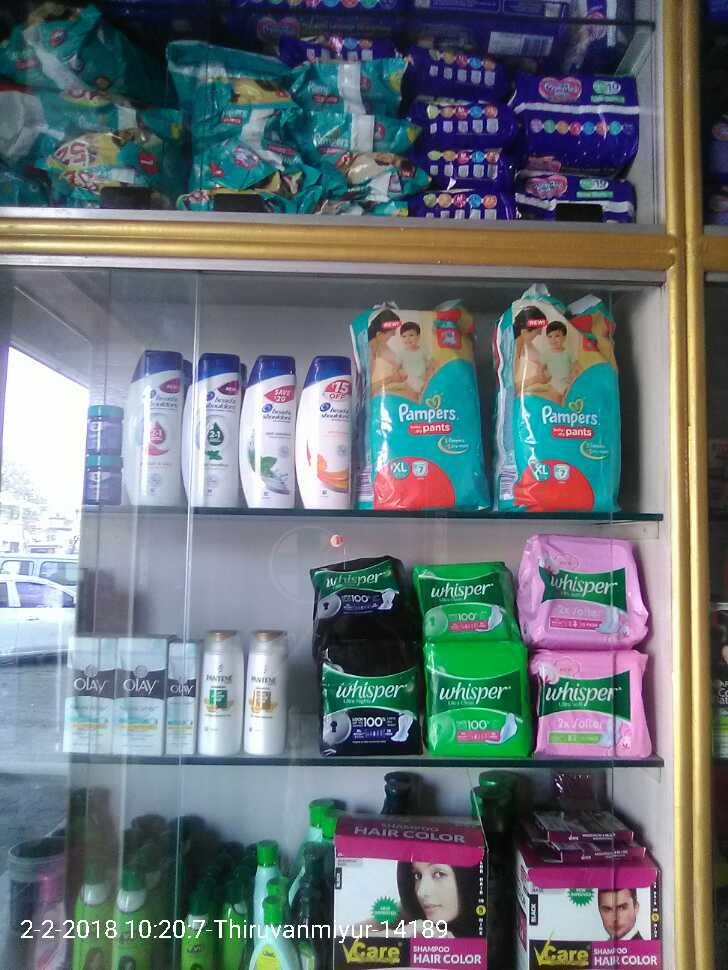vicks: (74, 397, 126, 517)
